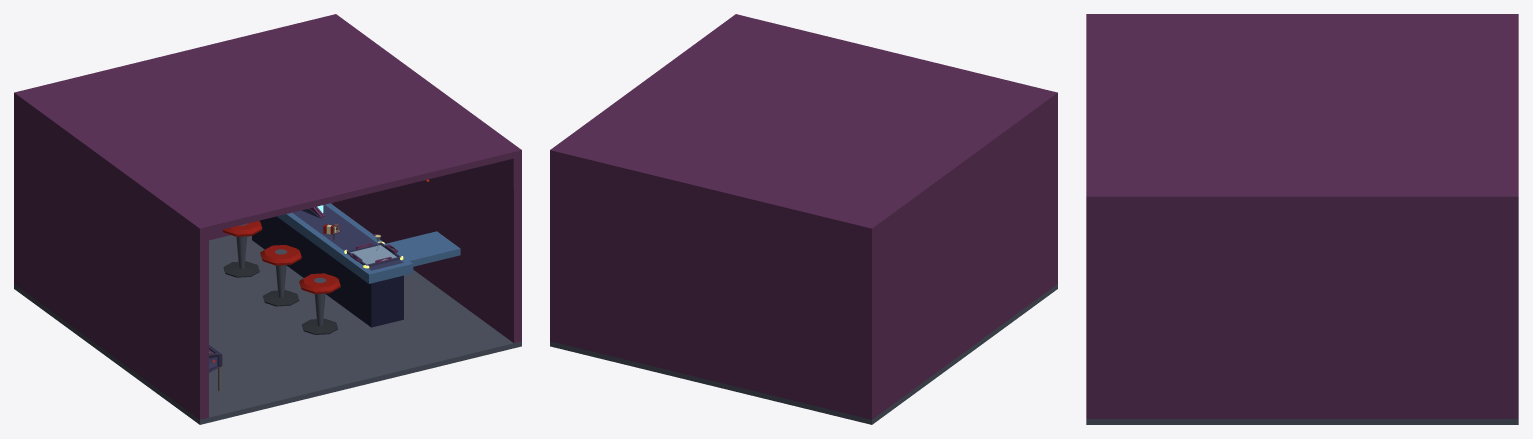
Rendered from Mindland.glb.
3 renders of one model, left to right at view 1: azimuth 30°, elevation 25°; view 2: azimuth 150°, elevation 25°; view 3: azimuth 270°, elevation 25°, orthographic. The views are drawn at different scales.
Visible parts, largest first — view 1: Mesh_6, Mesh_1, Mesh_7, Mesh_0; view 2: Mesh_6; view 3: Mesh_6.
Boxes of the visible parts, box(x1,y1,x2,y2) form: Mesh_6: box(14, 14, 521, 424); Mesh_1: box(209, 179, 460, 391); Mesh_7: box(223, 203, 412, 333); Mesh_0: box(350, 234, 396, 264); Mesh_6: box(550, 14, 1057, 424); Mesh_6: box(1086, 14, 1518, 424).
Bounding box in the file's own units: 9.11 × 5.31 × 9.11.
7 materials, 6 textured.
